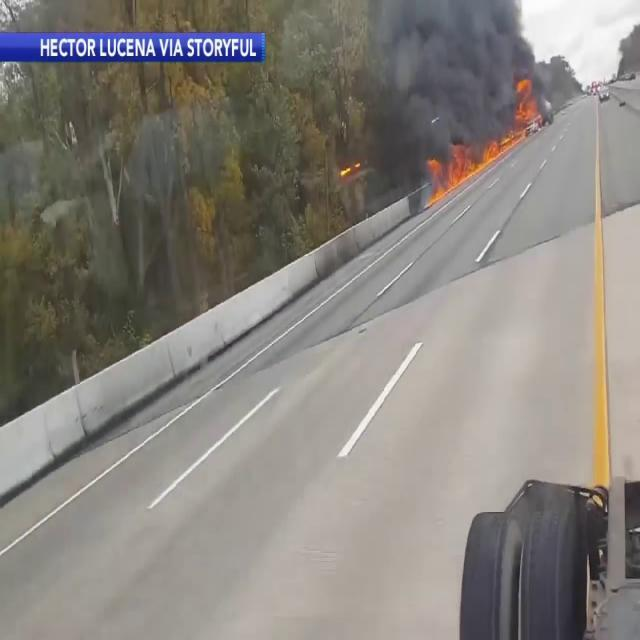Fire: (426, 132, 514, 195), (511, 73, 542, 138)
Smoke: (29, 1, 524, 184), (254, 1, 518, 168)
